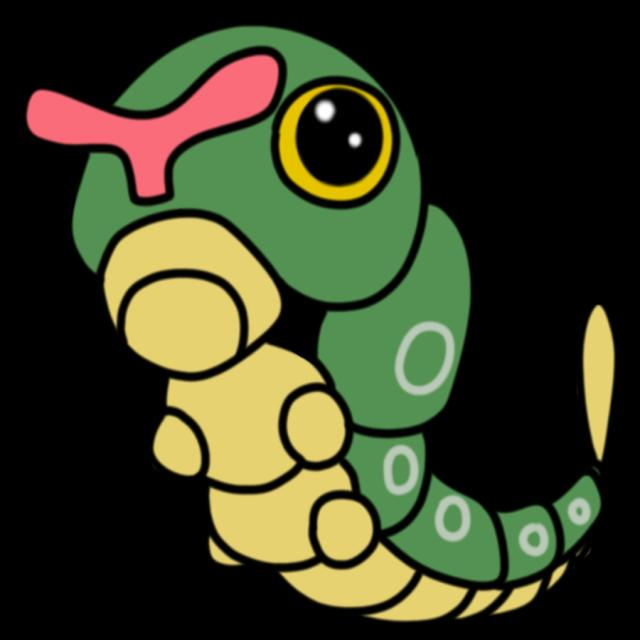Caterpie: (86, 40, 598, 580)
